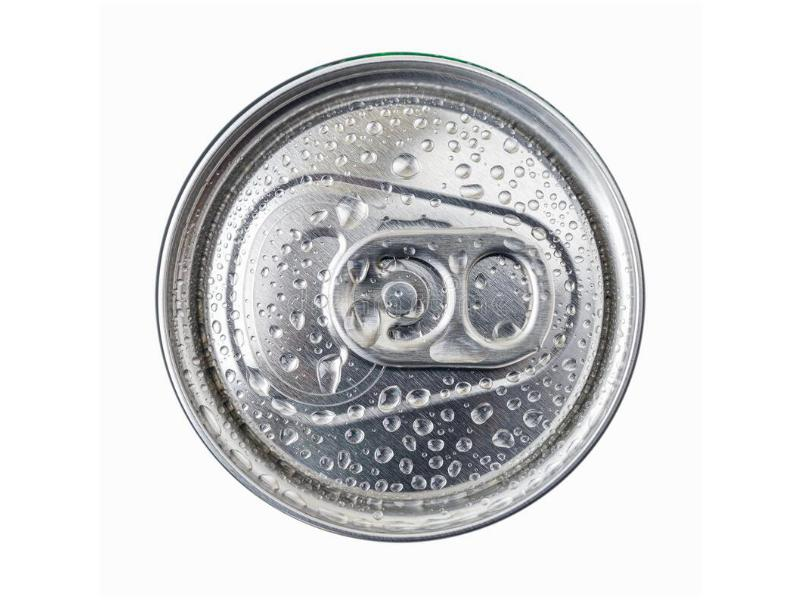can: (149, 46, 655, 547)
